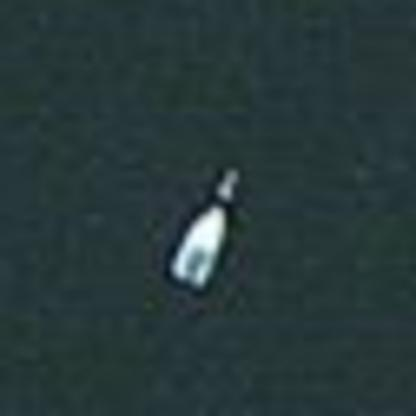ship: (160, 159, 250, 301)
